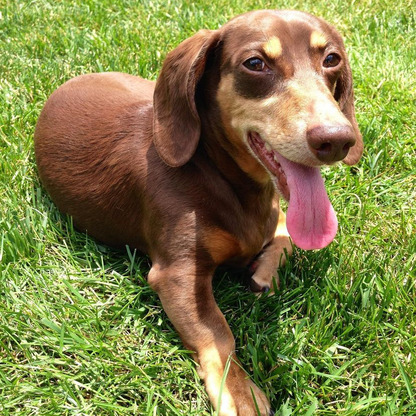dachshund: (52, 5, 383, 346)
